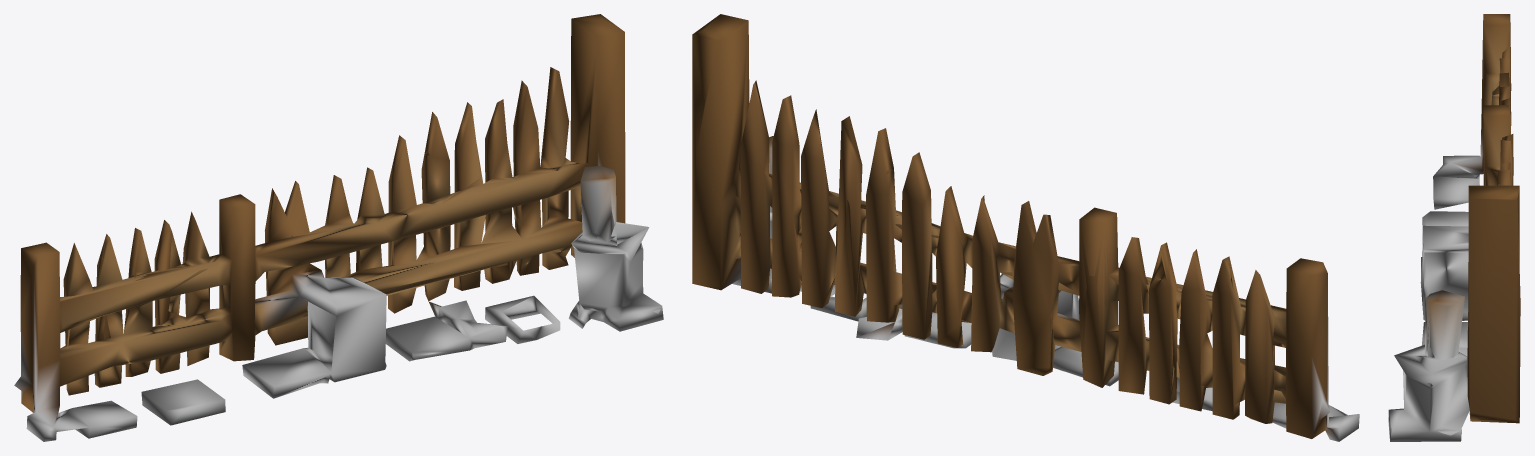
Rendered from gen3d-avalanche-fence-lod1.glb.
3 renders of one model, left to right at view 1: azimuth 30°, elevation 25°; view 2: azimuth 150°, elevation 25°; view 3: azimuth 270°, elevation 25°, orthographic. The views are drawn at different scales.
Visible parts, largest first — view 1: part_0; view 2: part_0; view 3: part_0.
Part boxes in pixels (<box>): part_0: <box>14,14,663,441</box>; part_0: <box>692,14,1359,441</box>; part_0: <box>1388,14,1520,441</box>.
Bounding box in the file's own units: 2.4 × 0.9962 × 0.4806.
